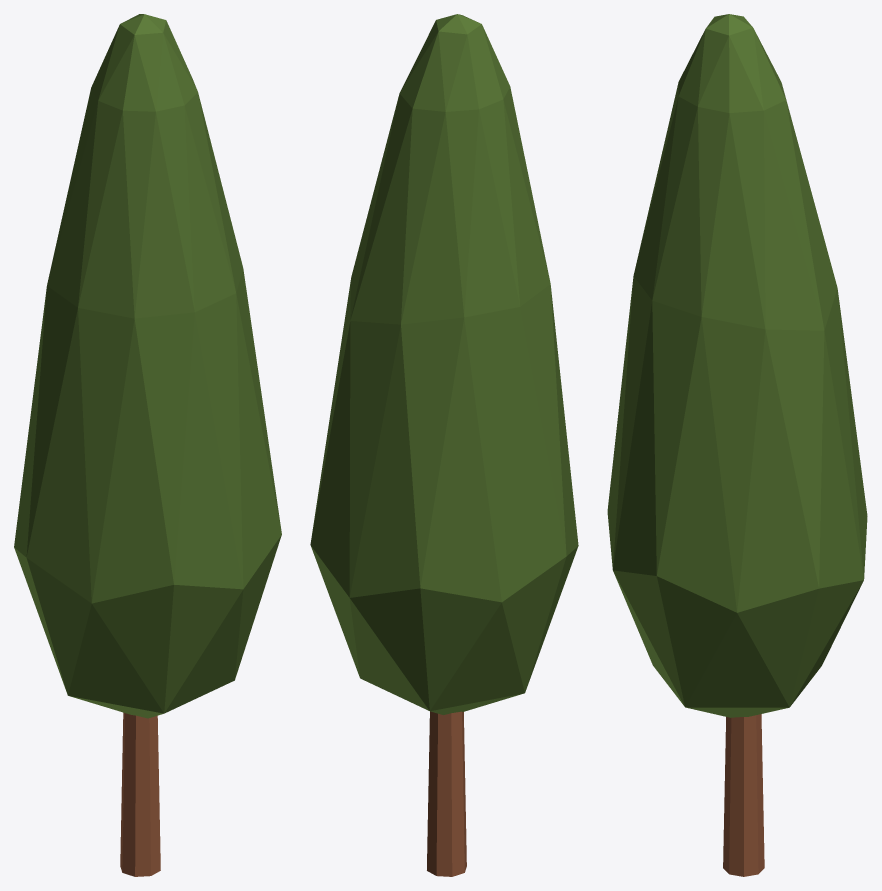
File: Cypress_Tree.fbx
The picture shows the model from 3 angles, left to right: view 1: azimuth 30°, elevation 25°; view 2: azimuth 150°, elevation 25°; view 3: azimuth 270°, elevation 25°; orthographic projection.
Parts seen in each view (by area): view 1: Icosphere.003; view 2: Icosphere.003; view 3: Icosphere.003.
Boxes of the visible parts, box(x1,y1,x2,y2) form: Icosphere.003: box(14, 14, 281, 876); Icosphere.003: box(310, 14, 578, 876); Icosphere.003: box(607, 14, 867, 876).
Size of the model in its own units: 1.95 by 6.83 by 1.89.
